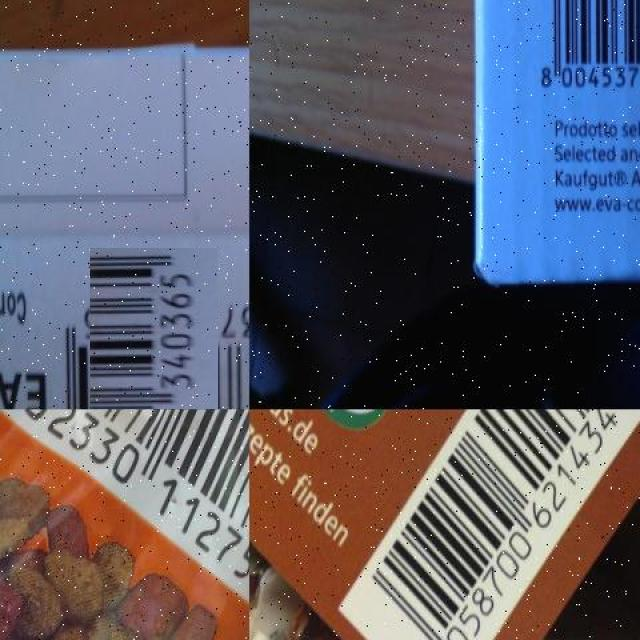Barcode: (336, 409, 640, 640), (0, 409, 249, 634), (73, 264, 234, 425), (525, 0, 640, 100)
